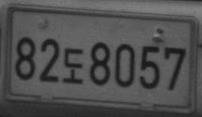0: (114, 42, 135, 87)
2: (38, 37, 61, 82)
5: (139, 45, 160, 89)
7: (163, 46, 186, 89)
8: (88, 40, 112, 86), (14, 35, 35, 80)
도: (63, 47, 84, 84)
